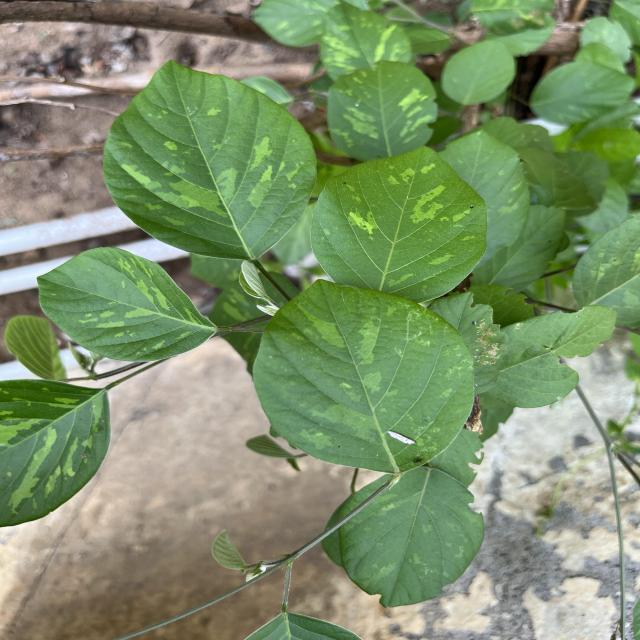Desmodium gangeticum: (250, 276, 477, 476), (308, 141, 492, 307), (33, 243, 220, 367)
